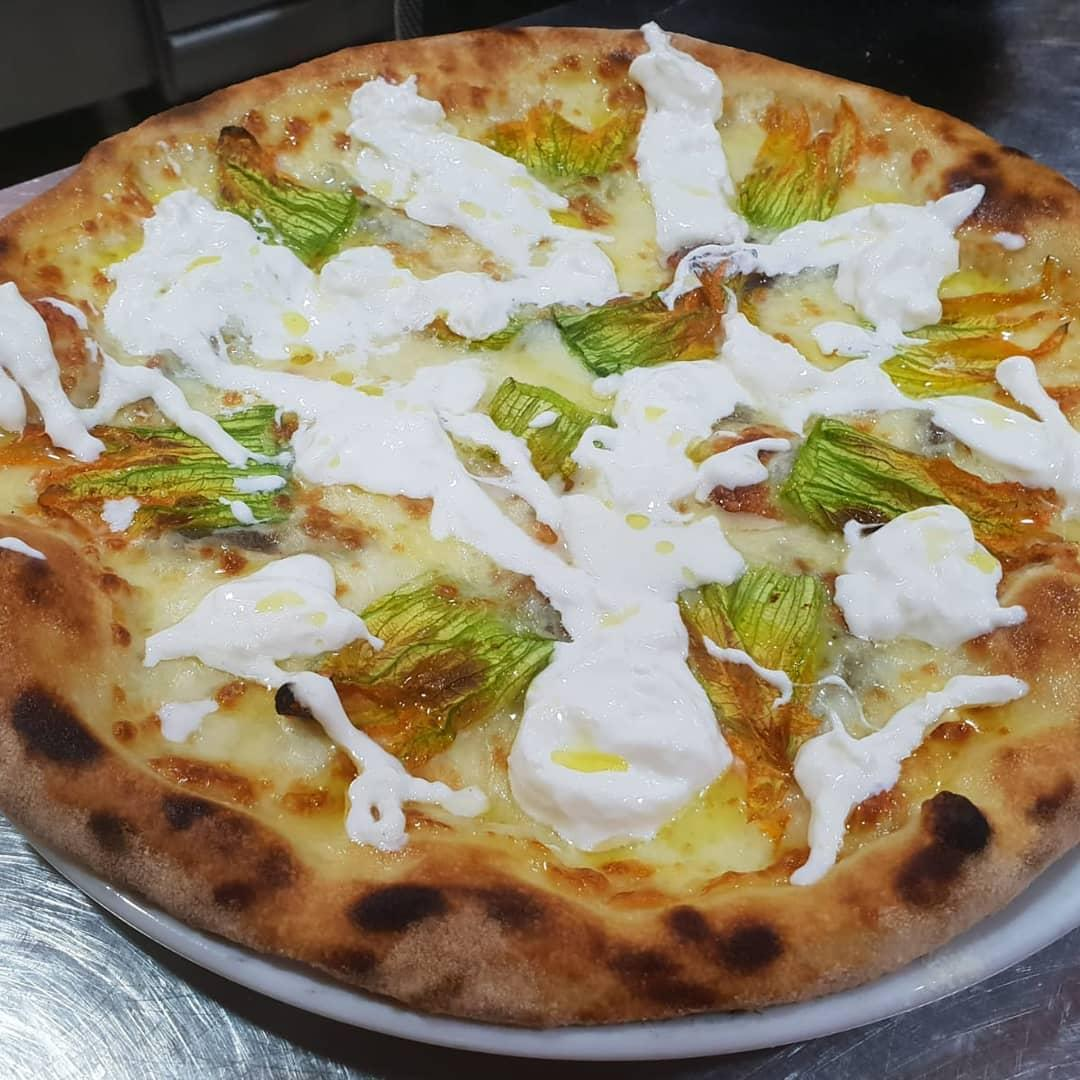Cheese: (121, 197, 518, 536), (525, 344, 756, 845), (763, 193, 1080, 485), (795, 513, 1056, 842), (361, 81, 725, 305), (155, 533, 301, 644)
Pizza: (13, 22, 1080, 1027)
